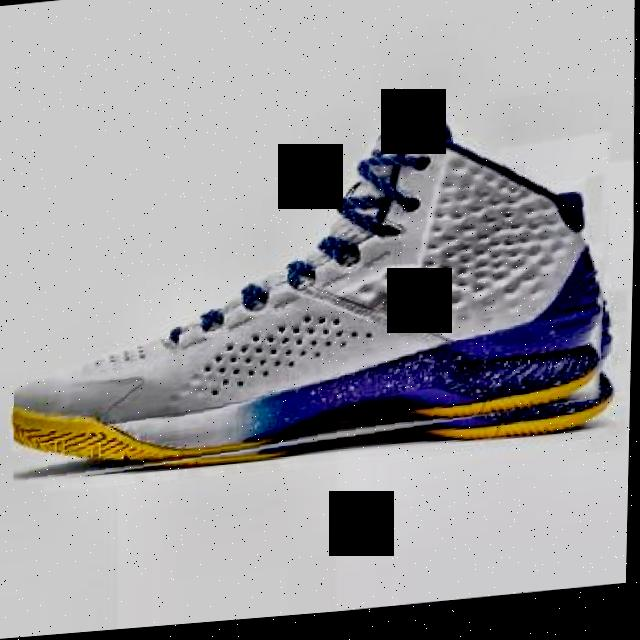shoe: (9, 97, 622, 488)
